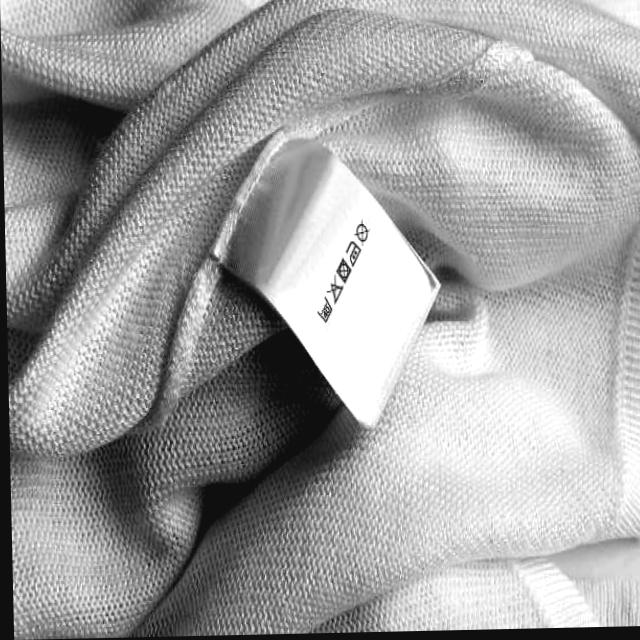40C: (316, 297, 334, 324)
DN_bleach: (328, 279, 346, 305)
DN_dry_clean: (355, 221, 370, 243)
DN_tumble_dry: (335, 259, 353, 283)
iron_medium: (345, 240, 363, 268)
